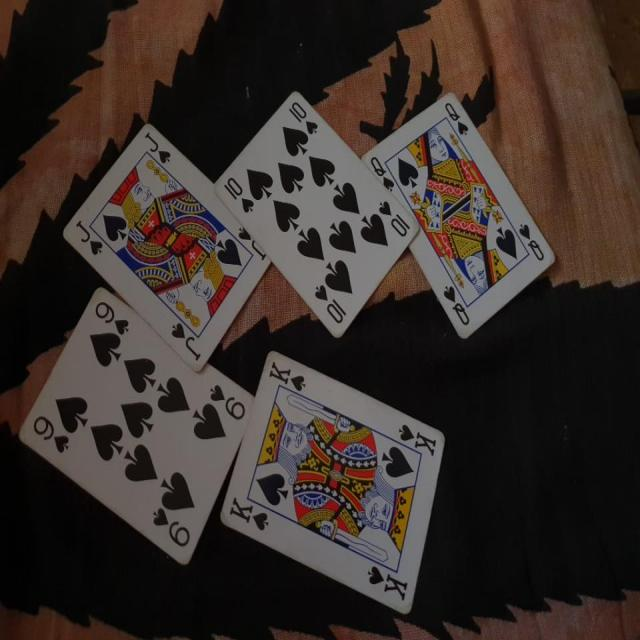10 Spades: (211, 86, 422, 340)
9 Spades: (23, 278, 255, 569)
J Spades: (60, 115, 277, 372)
K Spades: (218, 349, 452, 622)
Q Spades: (362, 90, 561, 351)
